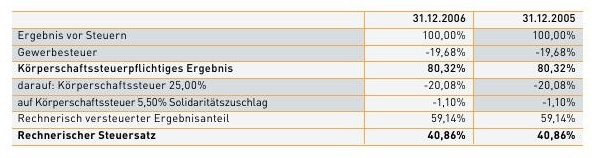table: (0, 0, 592, 158)
